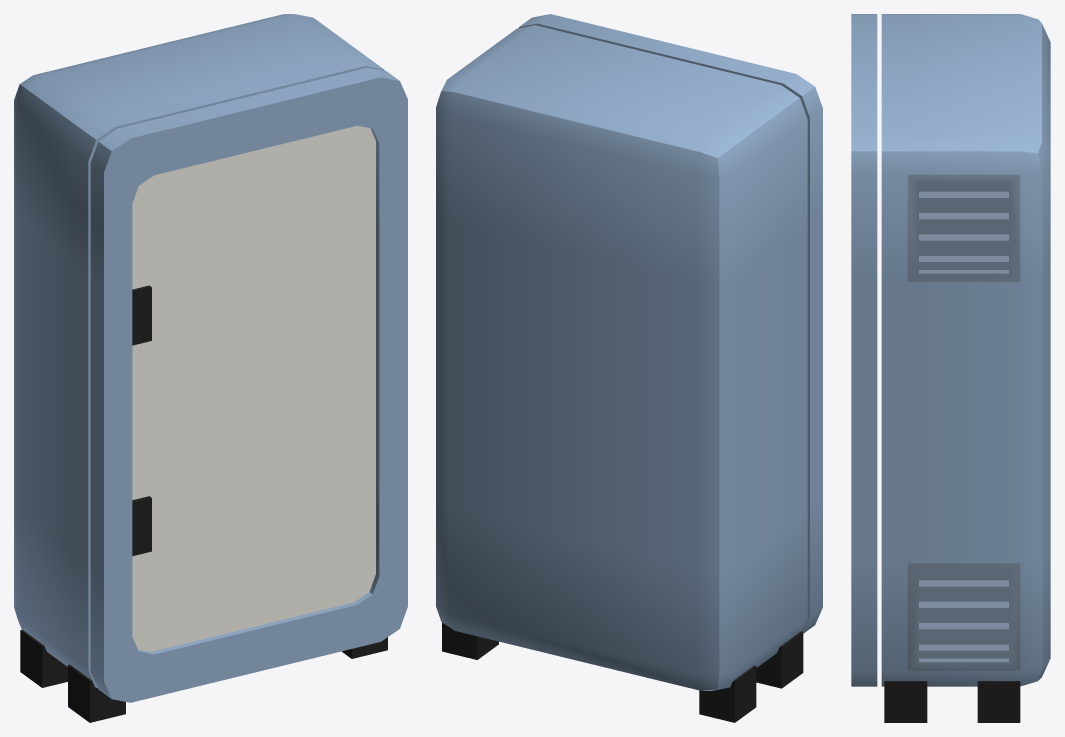
The model's file is cc0-can-fridge-lod0.glb.
The picture shows the model from 3 angles, left to right: view 1: azimuth 30°, elevation 25°; view 2: azimuth 150°, elevation 25°; view 3: azimuth 270°, elevation 25°; orthographic projection. The views are drawn at different scales.
Parts seen in each view (by area): view 1: part_0, part_1; view 2: part_0; view 3: part_0.
Boxes of the visible parts, x1,y1,x2,y2 form: part_0: (14,14,407,722); part_1: (132,125,375,651); part_0: (436,14,822,722); part_0: (851,14,1050,722).
Size of the model in its own units: 2.36 by 4.39 by 1.37.
Materials: 2 (1 with a texture image).
